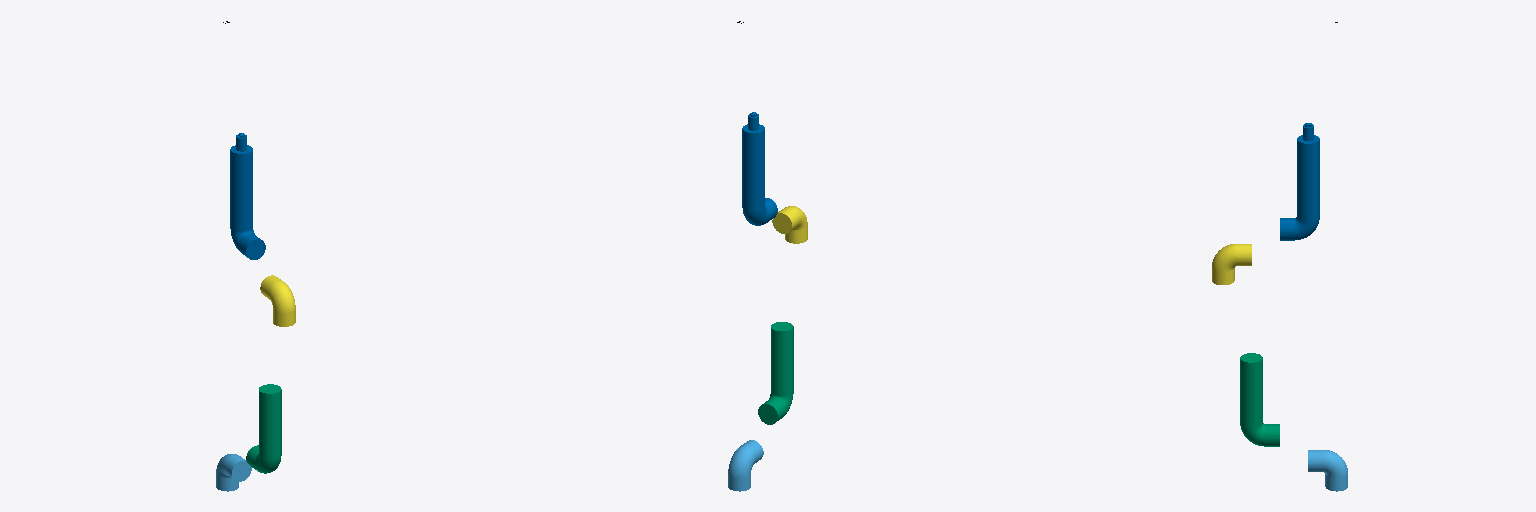
The robot description file, URDF, robot "RobotArm":
<?xml version="1.0" ?>
<!-- =================================================================================== -->
<!-- |    This document was autogenerated by xacro from /opt/ros/kinetic/share/moveit_resources/panda_description/urdf/panda.urdf | -->
<!-- |    EDITING THIS FILE BY HAND IS NOT RECOMMENDED                                 | -->
<!-- =================================================================================== -->
<robot name="RobotArm" xmlns:xacro="http://www.ros.org/wiki/xacro">
    <link name="base_link">
        <visual>
            <geometry>
                <mesh filename="package://moveit_resources_panda_description/meshes/collision/base_link.stl" scale="0.001 0.001 0.001"/>
            </geometry>
        </visual>
        <collision>
            <geometry>
                <mesh filename="package://moveit_resources_panda_description/meshes/collision/base_link.stl" scale="0.001 0.001 0.001"/>
            </geometry>
        </collision>
    </link>
    <link name="Componente4_1">
        <visual>
            <geometry>
                <mesh filename="package://moveit_resources_panda_description/meshes/collision/Componente4_1.stl" scale="0.001 0.001 0.001"/>
            </geometry>
        </visual>
        <collision>
            <geometry>
                <mesh filename="package://moveit_resources_panda_description/meshes/collision/Componente4_1.stl" scale="0.001 0.001 0.001"/>
            </geometry>
        </collision>
    </link>
    <joint name="limb1_to_base_link" type="revolute">
        <safety_controller k_position="100.0" k_velocity="40.0" soft_lower_limit="-2.8973" soft_upper_limit="2.8973" />
        <origin rpy="0 0 0" xyz="0.0 0.0 0.15" />
        <parent link="base_link" />
        <child link="Componente4_1" />
        <axis xyz="0.0 0.0 1.0" />
        <limit effort="100" lower="-2.9671" upper="2.9671" velocity="100" />
    </joint>
    <link name="Componente5_1">
        <visual>
            <geometry>
                <mesh filename="package://moveit_resources_panda_description/meshes/collision/Componente5_1.stl" scale="0.001 0.001 0.001"/>
            </geometry>
        </visual>
        <collision>
            <geometry>
                <mesh filename="package://moveit_resources_panda_description/meshes/collision/Componente5_1.stl" scale="0.001 0.001 0.001"/>
            </geometry>
        </collision>
    </link>
    <joint name="limb2_to_limb1" type="revolute">
        <safety_controller k_position="100.0" k_velocity="40.0" soft_lower_limit="-1.55" soft_upper_limit="1.55" />
        <origin rpy="0 0 0" xyz="0.0 -0.1 0.1" />
        <parent link="Componente4_1" />
        <child link="Componente5_1" />
        <axis xyz="0.0 -1.0 0.0" />
        <limit effort="100" lower="-1.570796" upper="1.570796" velocity="100" />
    </joint>
    <link name="Componente6_1">
        <visual>
            <geometry>
                <mesh filename="package://moveit_resources_panda_description/meshes/collision/Componente6_1.stl" scale="0.001 0.001 0.001"/>
            </geometry>
        </visual>
        <collision>
            <geometry>
                <mesh filename="package://moveit_resources_panda_description/meshes/collision/Componente6_1.stl" scale="0.001 0.001 0.001"/>
            </geometry>
        </collision>
    </link>
    <joint name="limb3_to_limb2" type="revolute">
        <safety_controller k_position="100.0" k_velocity="40.0" soft_lower_limit="-2.8973" soft_upper_limit="2.8973" />
        <origin rpy="0 0 0" xyz="0.0 -0.1 0.3" />
        <parent link="Componente5_1" />
        <child link="Componente6_1" />
        <axis xyz="0.0 0.0 1.0" />
        <limit effort="100" lower="-2.9671" upper="2.9671" velocity="100" />
    </joint>
    <link name="Componente7_1">
        <visual>
            <geometry>
                <mesh filename="package://moveit_resources_panda_description/meshes/collision/Componente7_1.stl" scale="0.001 0.001 0.001"/>
            </geometry>
        </visual>
        <collision>
            <geometry>
                <mesh filename="package://moveit_resources_panda_description/meshes/collision/Componente7_1.stl" scale="0.001 0.001 0.001"/>
            </geometry>
        </collision>
    </link>
    <joint name="limb4_to_limb3" type="revolute">
        <safety_controller k_position="100.0" k_velocity="40.0" soft_lower_limit="-2.77" soft_upper_limit="2.77" />
        <origin rpy="0 0 0" xyz="0.0 0.1 0.1" />
        <parent link="Componente6_1" />
        <child link="Componente7_1" />
        <axis xyz="0.0 1.0 0.0" />
        <limit effort="100" lower="-2.792527" upper="2.792527" velocity="100" />
    </joint>
    <link name="Componente8_1">
        <visual>
            <geometry>
                <mesh filename="package://moveit_resources_panda_description/meshes/visual/link5.dae" scale="0.001 0.001 0.001"/>
            </geometry>
        </visual>
        <collision>
            <geometry>
                <mesh filename="package://moveit_resources_panda_description/meshes/collision/Componente8_1.stl" scale="0.001 0.001 0.001"/>
            </geometry>
        </collision>
    </link>
    <joint name="limb5_to_limb4" type="revolute">
        <safety_controller k_position="100.0" k_velocity="40.0" soft_lower_limit="-2.8973" soft_upper_limit="2.8973" />
        <origin rpy="0 0 0" xyz="0.0 0.1 0.4" />
        <parent link="Componente7_1" />
        <child link="Componente8_1" />
        <axis xyz="0.0 0.0 1.0" />
        <limit effort="100" lower="-2.9671" upper="2.9671" velocity="100" />
    </joint>
</robot>

--- Facts derived from the render (not from the file) ---
Views: 3 orthographic renders of the robot side by side, from view 1: azimuth 30°, elevation 25°; view 2: azimuth 150°, elevation 25°; view 3: azimuth 270°, elevation 25°.
Robot: RobotArm — 6 links, 5 joints (5 revolute); root link base_link; default pose: all joints at 0.
Links seen in each view (by area): view 1: Componente7_1, Componente5_1, Componente6_1, Componente4_1; view 2: Componente7_1, Componente5_1, Componente4_1, Componente6_1; view 3: Componente7_1, Componente5_1, Componente4_1, Componente6_1.
Boxes of the visible links, <box> form: Componente7_1: <box>230,133,265,259</box>; Componente5_1: <box>246,384,281,473</box>; Componente6_1: <box>260,275,295,326</box>; Componente4_1: <box>216,454,251,491</box>; Componente7_1: <box>742,112,777,225</box>; Componente5_1: <box>758,322,793,424</box>; Componente4_1: <box>728,440,763,491</box>; Componente6_1: <box>772,206,807,243</box>; Componente7_1: <box>1280,123,1319,240</box>; Componente5_1: <box>1240,353,1279,446</box>; Componente4_1: <box>1308,450,1347,491</box>; Componente6_1: <box>1212,244,1251,284</box>.
Bounding box of the posed robot: 0.08 × 0.48 × 1.8 m (x, y, z).
5 mesh visuals loaded from 6 distinct referenced files (4 binary STL, 1 Collada DAE); not drawn: 1 (reference not matched to a file when rendering).
